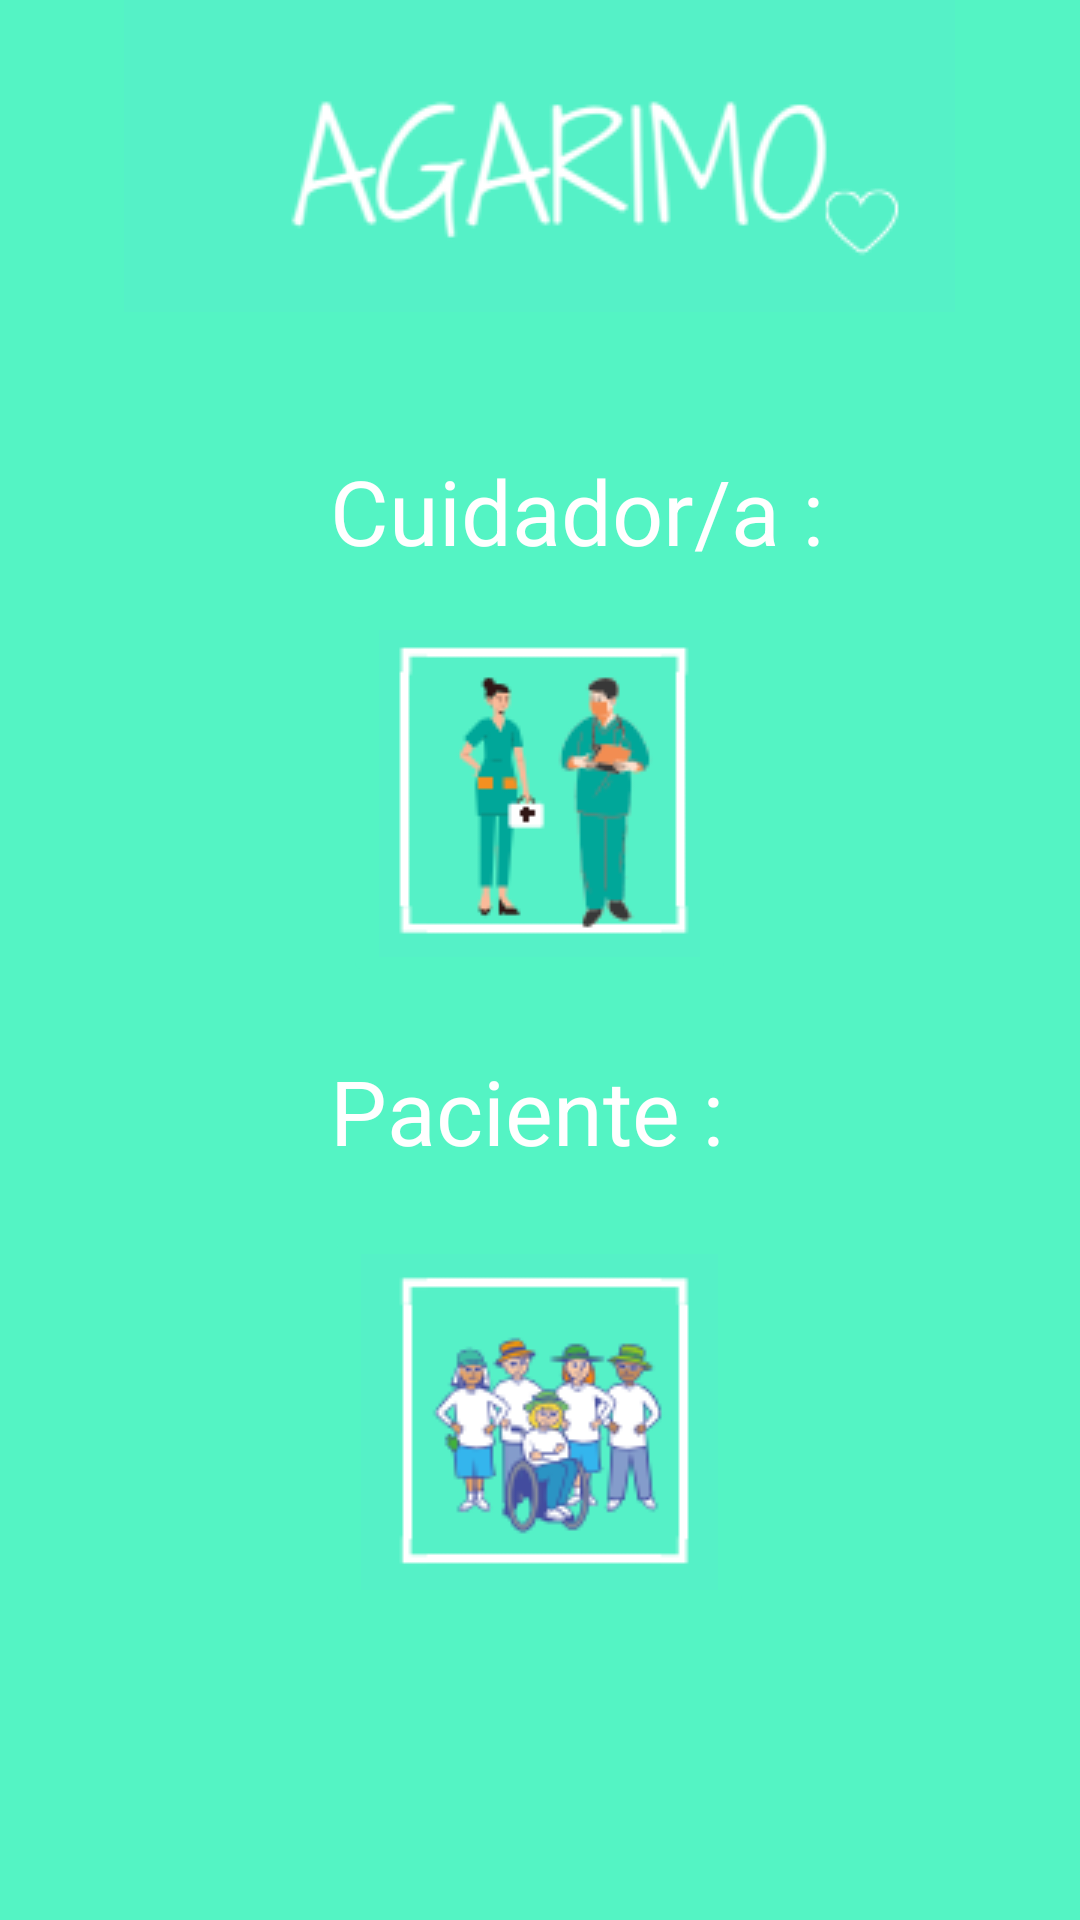

Icon bounding boxes for this 1080px x 1920px phone screenshot, format box=[x1, y1, x2, y2]:
foto: box=[399, 647, 688, 934], box=[401, 1277, 689, 1564]
